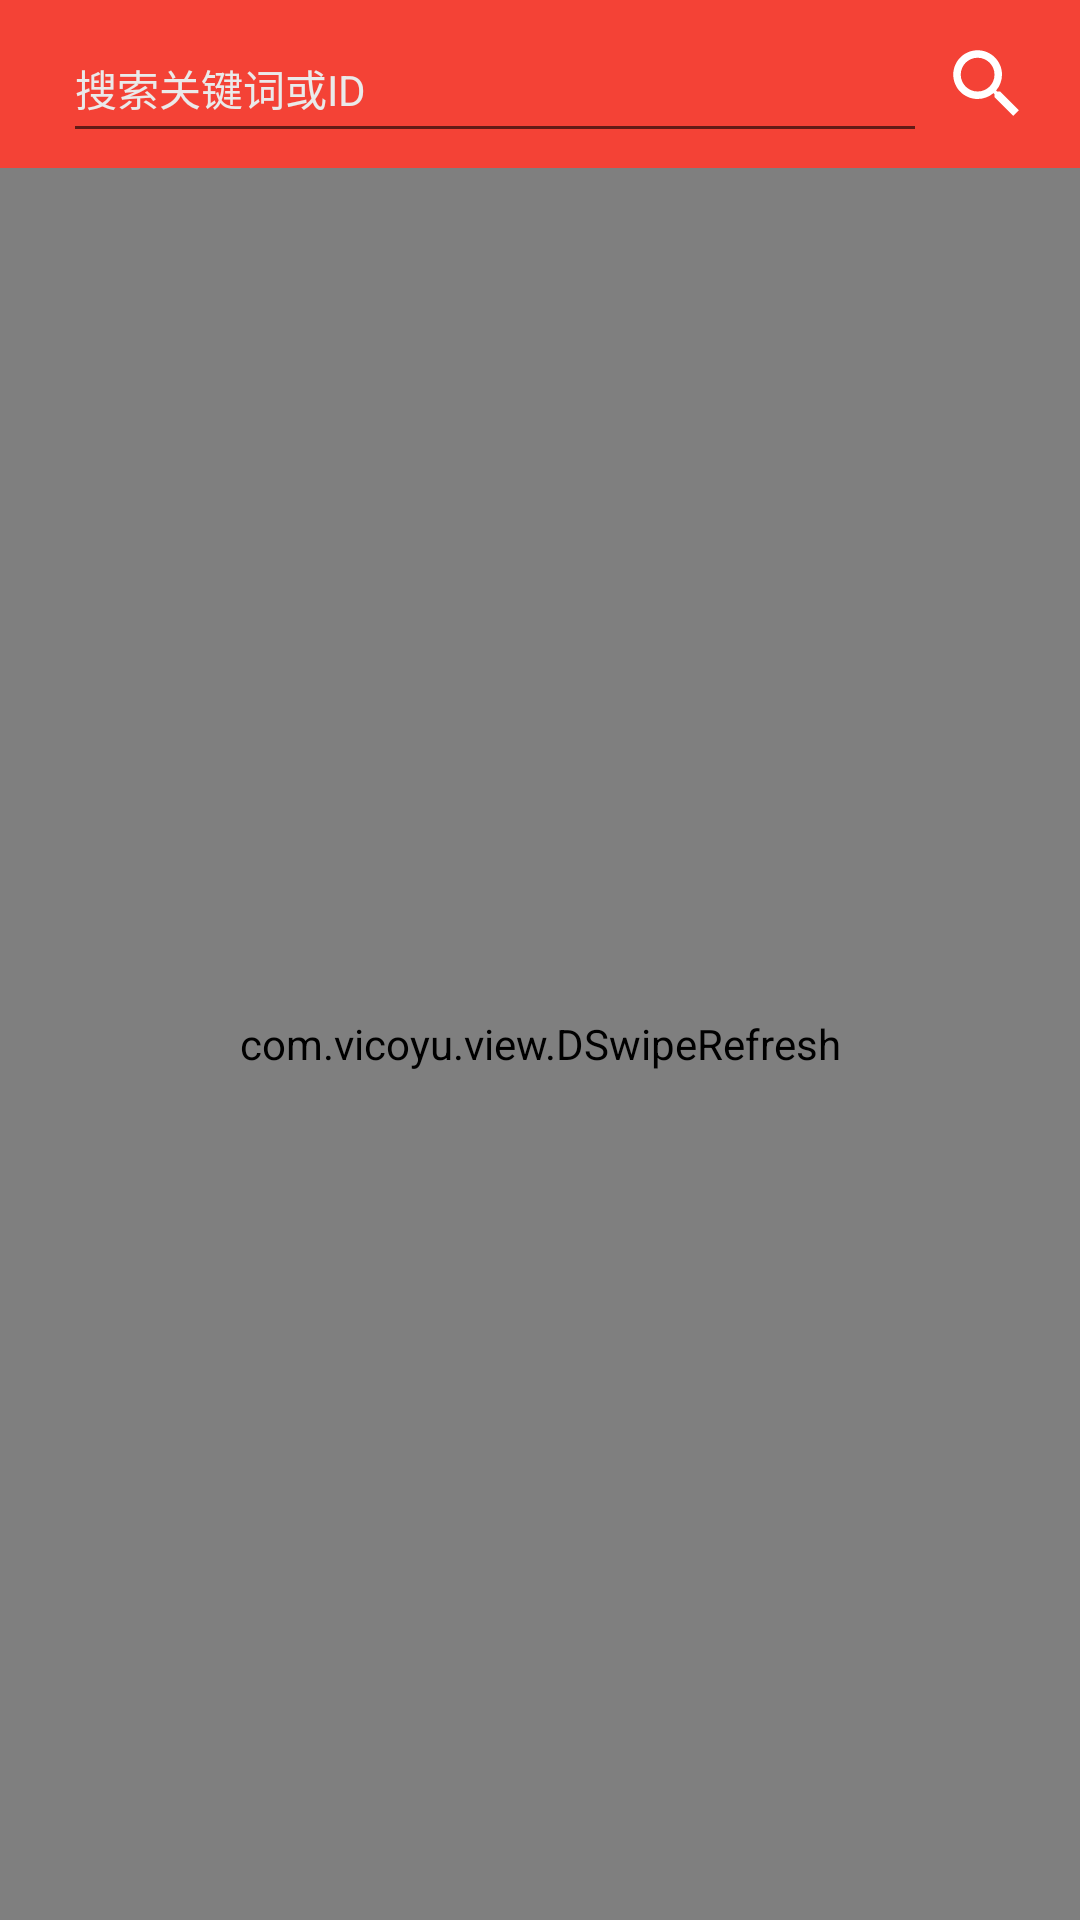

Screen size 1080 x 1920. Icon name, then its center in pixels as (x=x, y=y):
search: (x=986, y=83)
